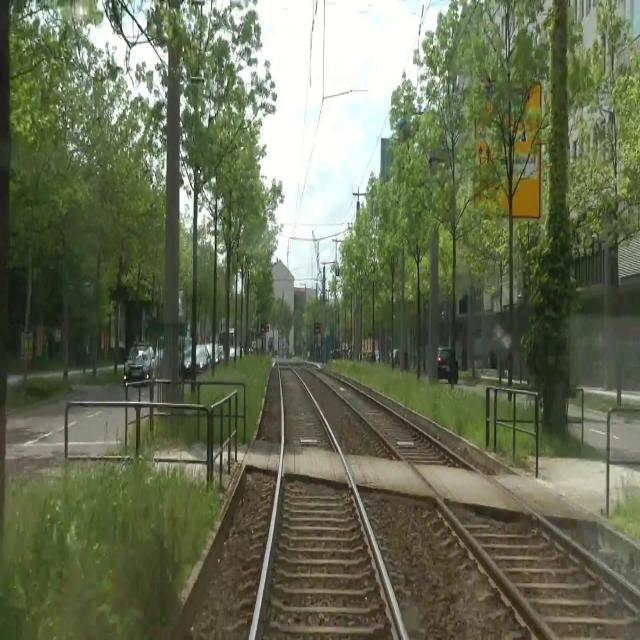rail-track: (317, 373, 640, 639), (254, 361, 401, 639)
